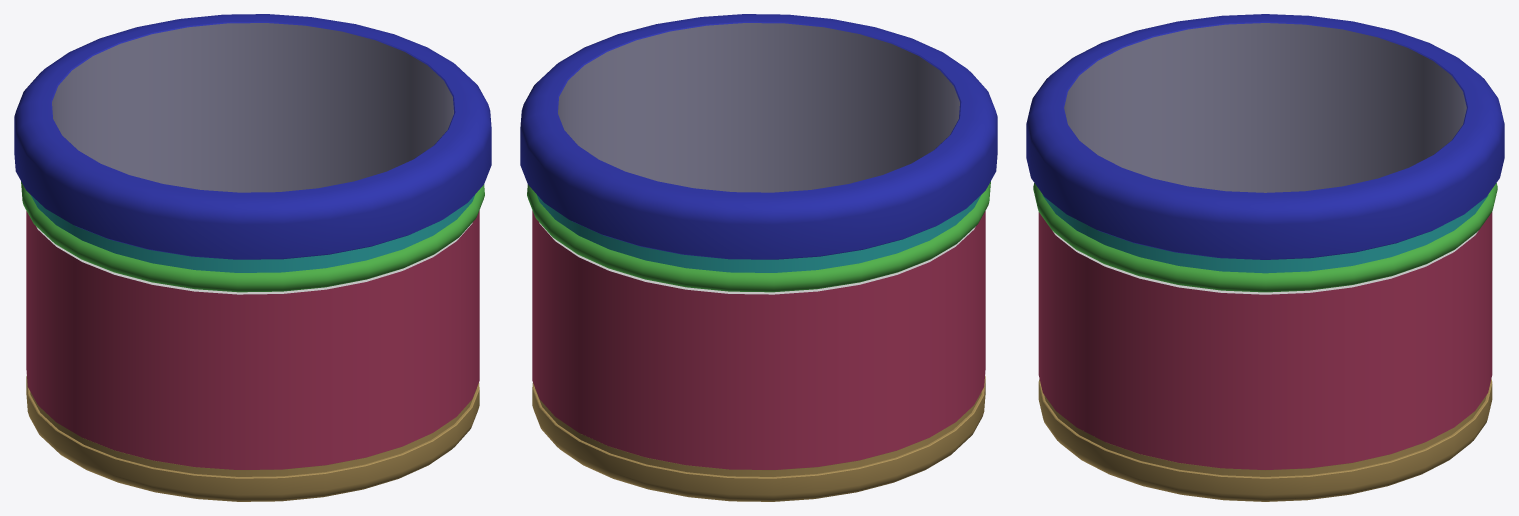
Rendered from Container_Style_18.fbx.
3 views of the same model, side by side, from view 1: azimuth 30°, elevation 25°; view 2: azimuth 150°, elevation 25°; view 3: azimuth 270°, elevation 25° (orthographic).
Visible parts, largest first — view 1: SetA_Container_Style_18; view 2: SetA_Container_Style_18; view 3: SetA_Container_Style_18.
Boxes of the visible parts, bbox=[...] form: SetA_Container_Style_18: bbox=[14, 14, 491, 501]; SetA_Container_Style_18: bbox=[520, 14, 997, 501]; SetA_Container_Style_18: bbox=[1026, 14, 1504, 501].
Size of the model in its own units: 0.1978 by 0.1391 by 0.1978.
